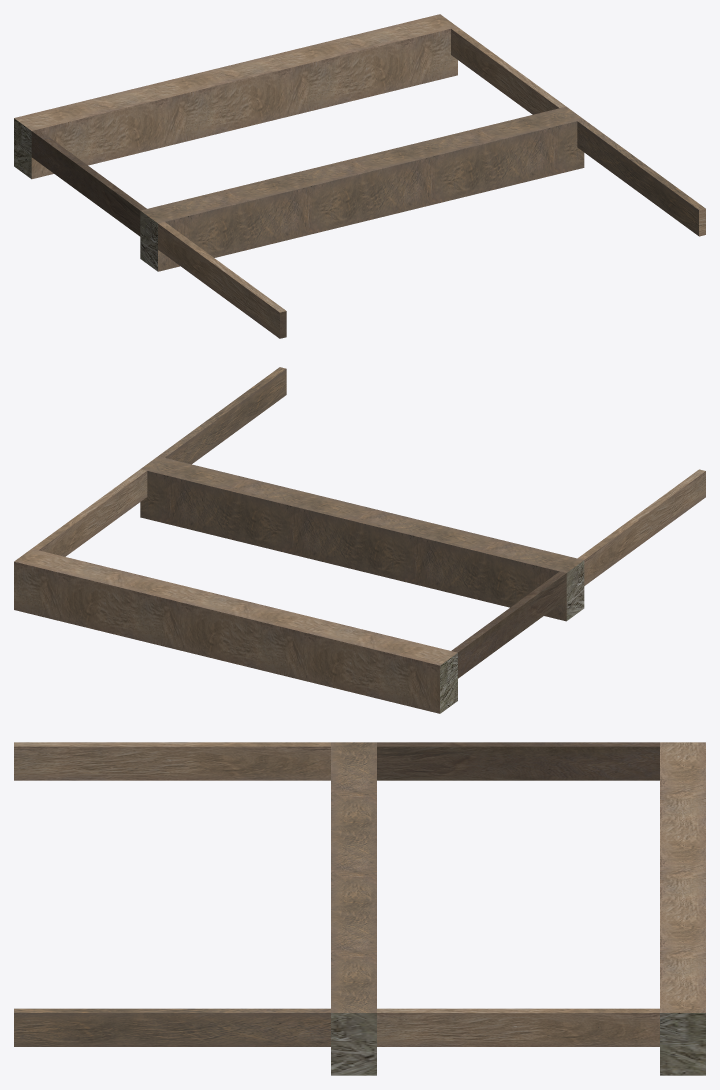
Rendered from RafterCenterA.fbx.
The picture shows the model from 3 angles, top to bottom: view 1: azimuth 30°, elevation 25°; view 2: azimuth 150°, elevation 25°; view 3: azimuth 270°, elevation 25°; orthographic projection. The views are drawn at different scales.
Parts seen in each view (by area): view 1: RafterCenterA; view 2: RafterCenterA; view 3: RafterCenterA.
Part boxes in pixels (x1,y1,x2,y2): RafterCenterA: (14,14,705,338); RafterCenterA: (14,367,705,713); RafterCenterA: (14,742,705,1075).
Size of the model in its own units: 374 by 40.53 by 404.
